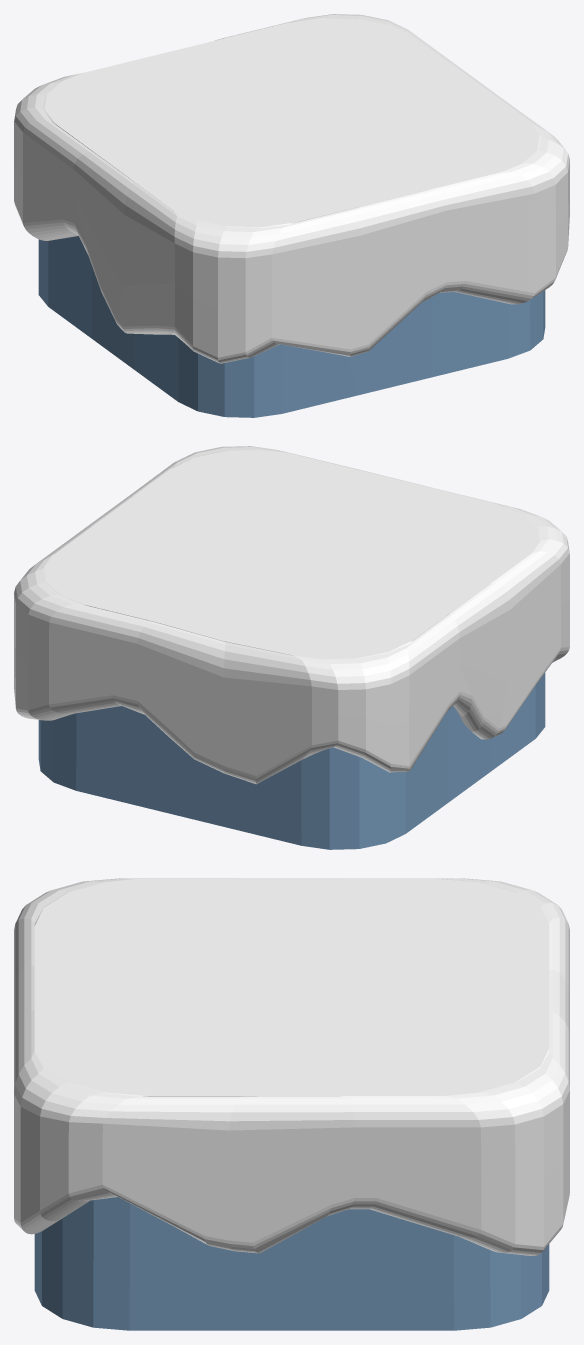
The model's file is island.platfrom.short.white.glb.
3 renders of one model, top to bottom at view 1: azimuth 30°, elevation 25°; view 2: azimuth 150°, elevation 25°; view 3: azimuth 270°, elevation 25°, orthographic. The views are drawn at different scales.
Visible parts, largest first — view 1: Ice.Island.small; view 2: Ice.Island.small; view 3: Ice.Island.small.
Boxes of the visible parts, box(x1,y1,x2,y2) form: Ice.Island.small: box(14, 14, 569, 417); Ice.Island.small: box(14, 446, 569, 849); Ice.Island.small: box(14, 878, 569, 1330).
Bounding box in the file's own units: 3.24 × 1.51 × 3.24.
